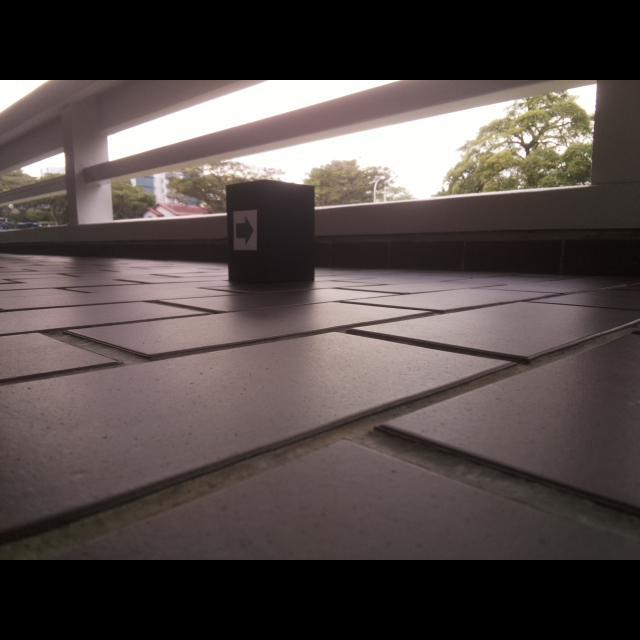RIGHT: (235, 215, 255, 248)
